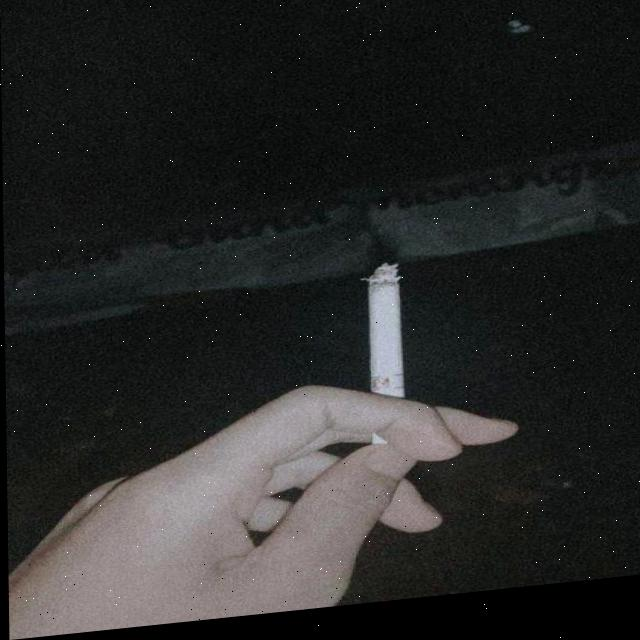cigarette: (365, 266, 404, 411)
